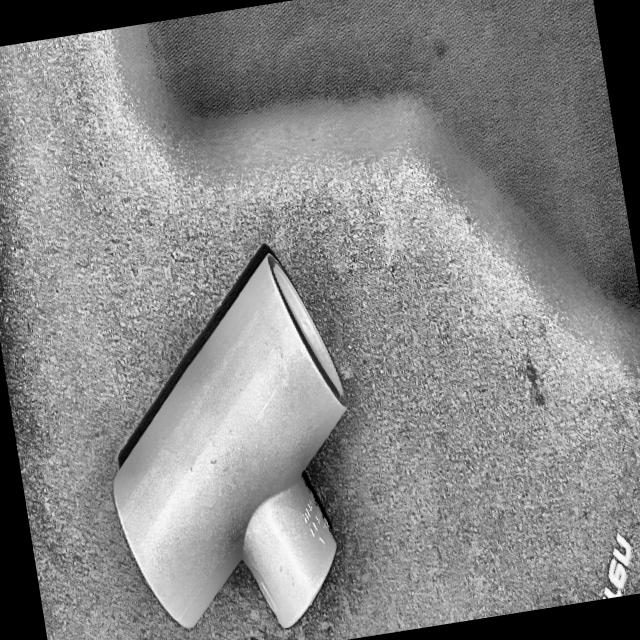EQUALTEE: (113, 244, 348, 629)
